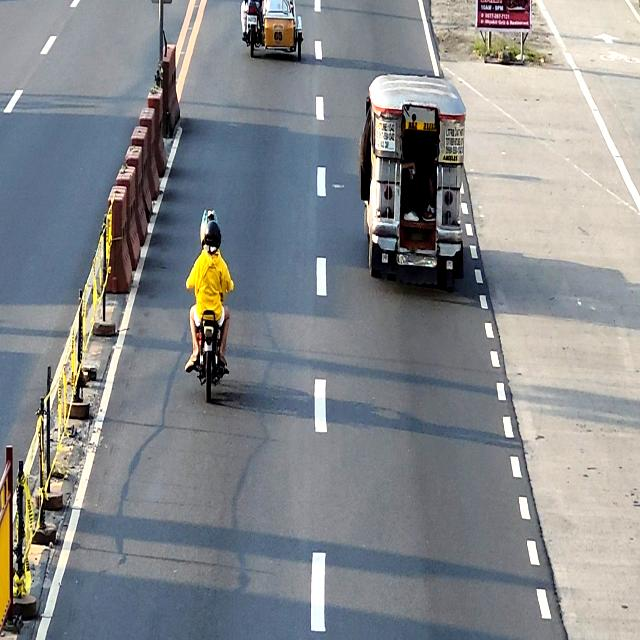Jeep: (358, 73, 466, 291)
License-Plate: (247, 16, 257, 24)
Motorcycle: (190, 274, 230, 404)
Tricycle: (244, 0, 303, 57)
